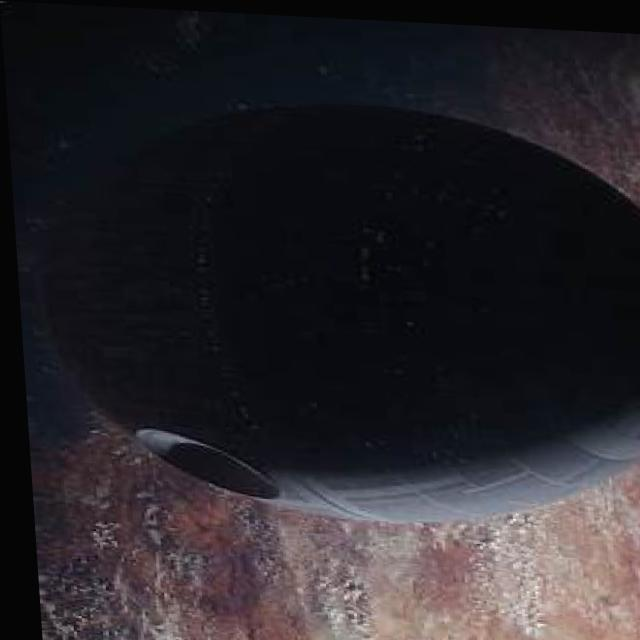deathStar: (21, 90, 640, 527)
